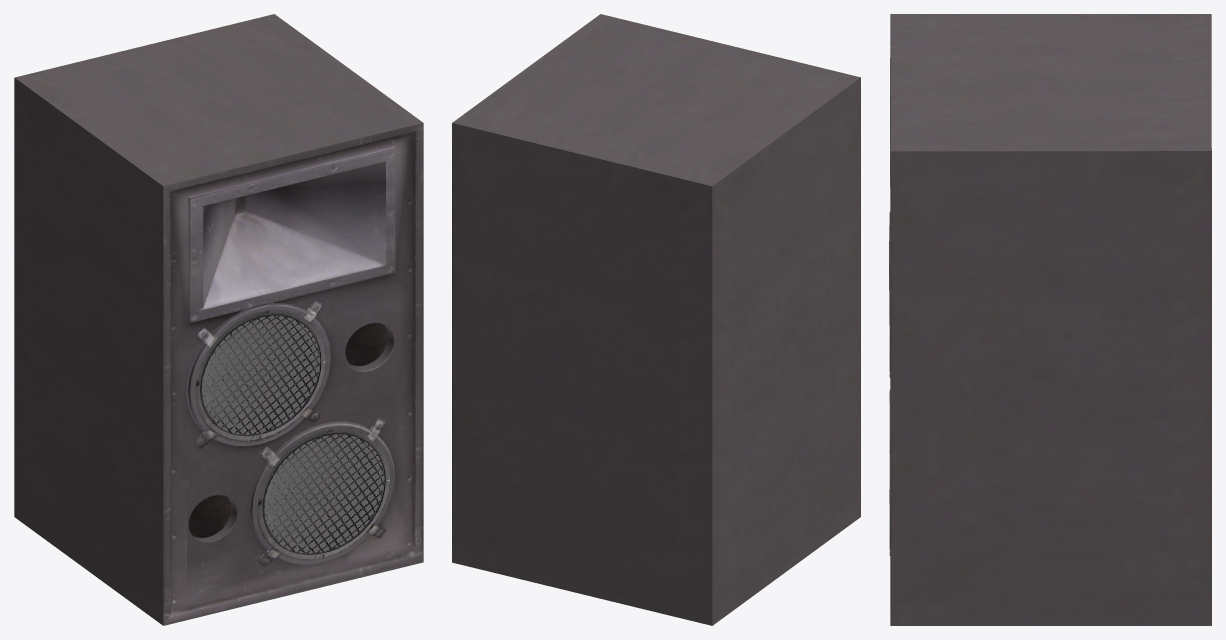
Rendered from Speaker_C.fbx.
The picture shows the model from 3 angles, left to right: view 1: azimuth 30°, elevation 25°; view 2: azimuth 150°, elevation 25°; view 3: azimuth 270°, elevation 25°; orthographic projection. The views are drawn at different scales.
Visible parts, largest first — view 1: Speaker_Large_Body_035, Speaker_Large_Grill_B_035, Speaker_Large_Grill_A_035, Speaker_Large_Cone_B_035, Speaker_Large_Cone_A_035; view 2: Speaker_Large_Body_035; view 3: Speaker_Large_Body_035.
Part boxes in pixels (x1,y1,x2,y2): Speaker_Large_Body_035: [14, 14, 423, 625]; Speaker_Large_Grill_B_035: [263, 434, 384, 554]; Speaker_Large_Grill_A_035: [201, 315, 320, 435]; Speaker_Large_Cone_B_035: [257, 428, 390, 559]; Speaker_Large_Cone_A_035: [195, 310, 325, 440]; Speaker_Large_Body_035: [452, 14, 860, 625]; Speaker_Large_Body_035: [889, 14, 1211, 625].
Size of the model in its own units: 151 by 243 by 150.
